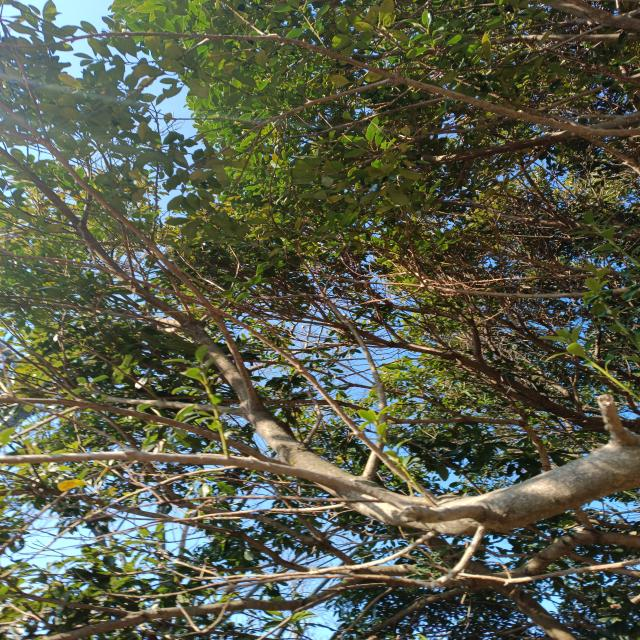Branch: (189, 320, 640, 537)
Twig: (0, 254, 438, 503), (0, 147, 191, 330), (3, 453, 484, 525), (254, 293, 387, 479), (0, 397, 286, 465), (201, 530, 437, 578), (93, 391, 240, 415)
